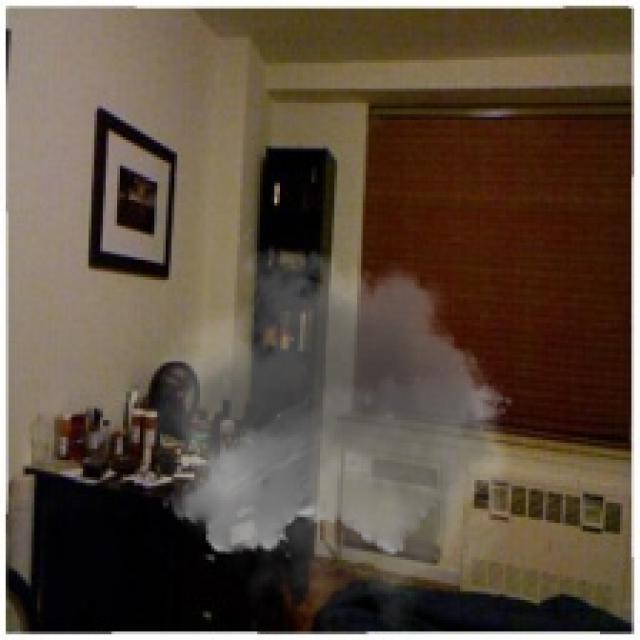Smoke: (148, 228, 526, 638)
